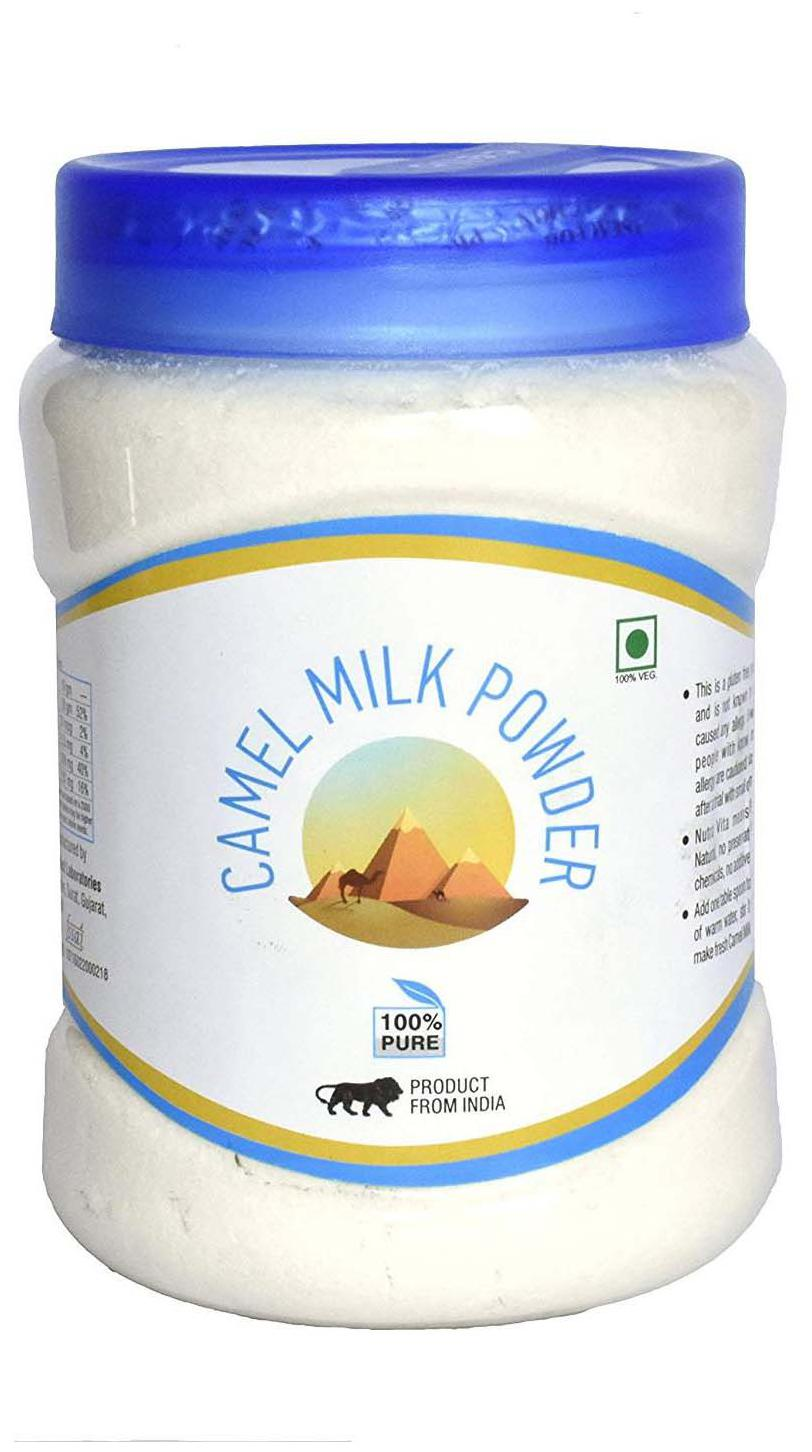JAR: (4, 127, 770, 1335)
